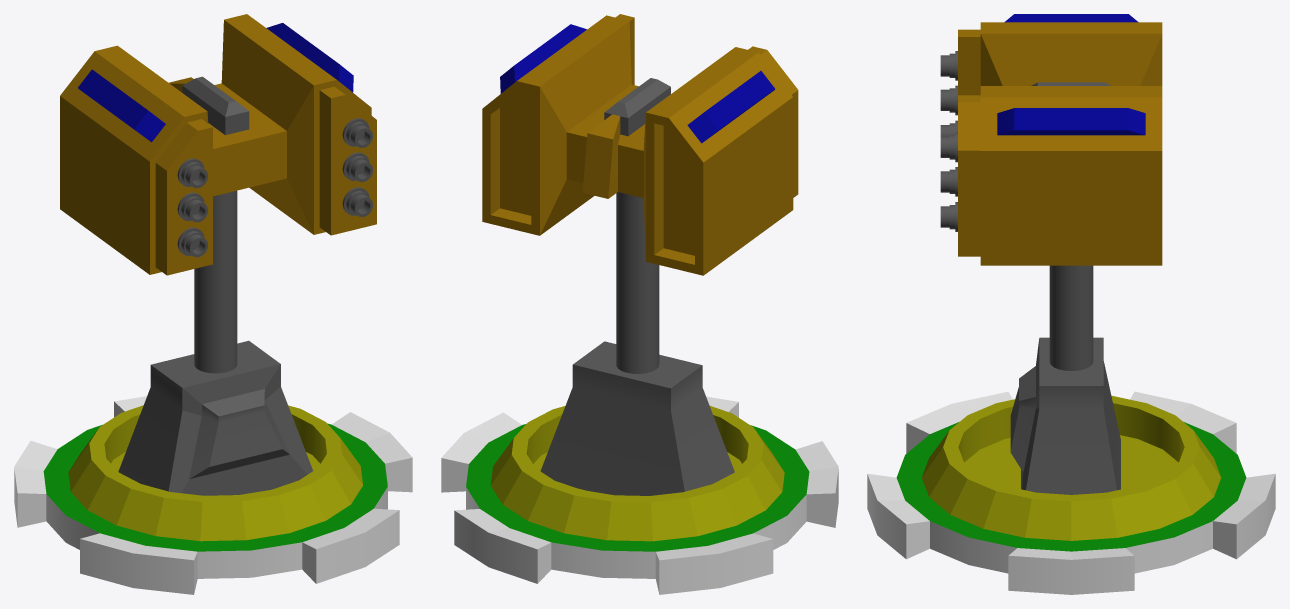
File: machine3.fbx
3 renders of one model, left to right at view 1: azimuth 30°, elevation 25°; view 2: azimuth 150°, elevation 25°; view 3: azimuth 270°, elevation 25°, orthographic.
Parts seen in each view (by area): view 1: machine3body4, machine3body1, machine3body2, machine3body3, machine3body7, machine3body10, machine3body5, machine3body8, machine3bod6, machine3body9; view 2: machine3body4, machine3body1, machine3body2, machine3body3; view 3: machine3body1, machine3body4, machine3body2, machine3body3.
Boxes of the visible parts, left/top/right/bottom form: machine3body4: left=60, top=14, right=376, bottom=275; machine3body1: left=14, top=396, right=412, bottom=594; machine3body2: left=118, top=340, right=312, bottom=495; machine3body3: left=194, top=190, right=237, bottom=373; machine3body7: left=177, top=227, right=207, bottom=257; machine3body10: left=342, top=187, right=372, bottom=216; machine3body5: left=177, top=158, right=207, bottom=188; machine3body8: left=342, top=118, right=372, bottom=147; machine3bod6: left=177, top=192, right=207, bottom=222; machine3body9: left=342, top=152, right=372, bottom=182; machine3body4: left=482, top=14, right=798, bottom=275; machine3body1: left=441, top=396, right=838, bottom=594; machine3body2: left=540, top=341, right=734, bottom=495; machine3body3: left=616, top=192, right=659, bottom=373; machine3body1: left=867, top=391, right=1275, bottom=594; machine3body4: left=958, top=14, right=1162, bottom=265; machine3body2: left=1010, top=337, right=1120, bottom=494; machine3body3: left=1049, top=265, right=1093, bottom=370.
Size of the model in its own units: 110 by 137 by 113.
